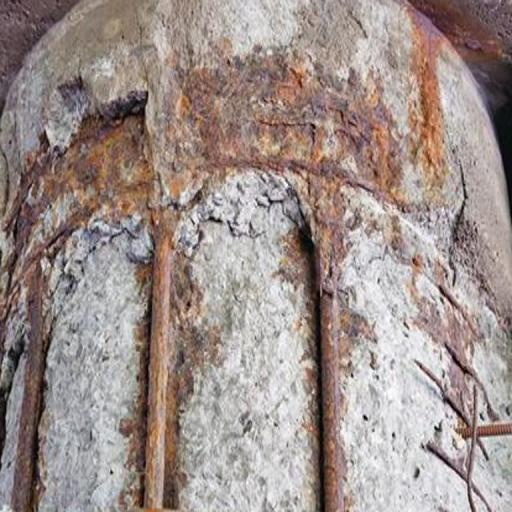spalling: (8, 91, 496, 504)
